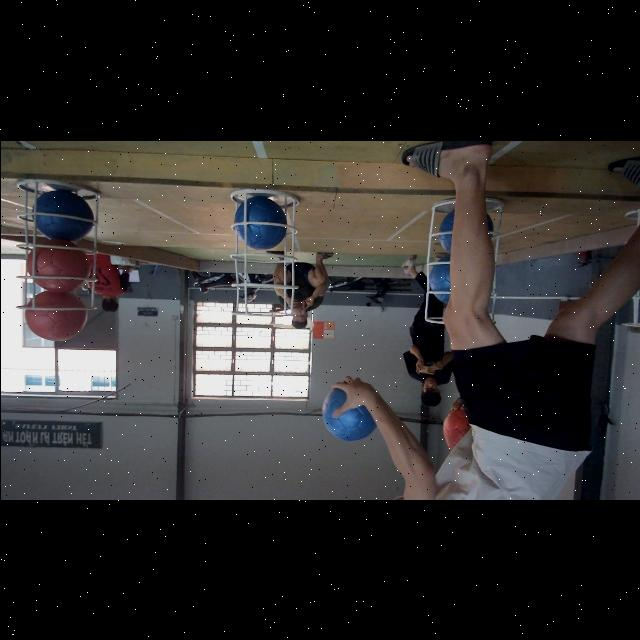B: (30, 188, 91, 244), (235, 195, 287, 252)
R: (22, 242, 92, 294), (24, 290, 86, 344)
